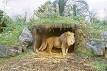lion: (35, 30, 77, 61)
